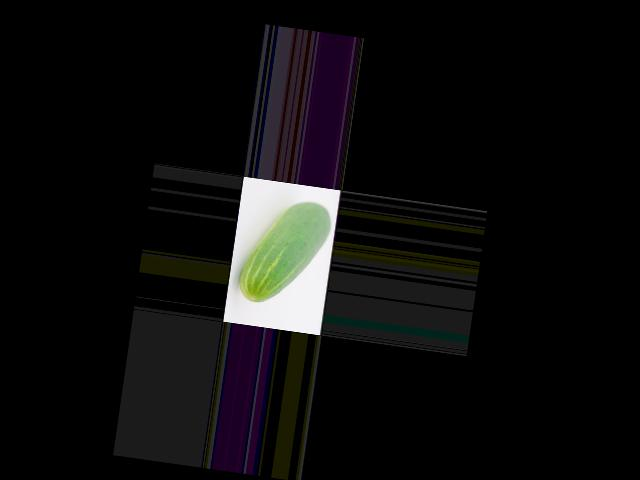cucumber: (236, 193, 333, 310)
